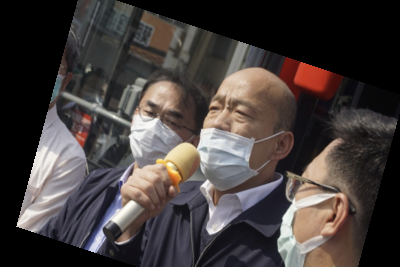mask_weared_incorrect: (195, 64, 295, 197)
